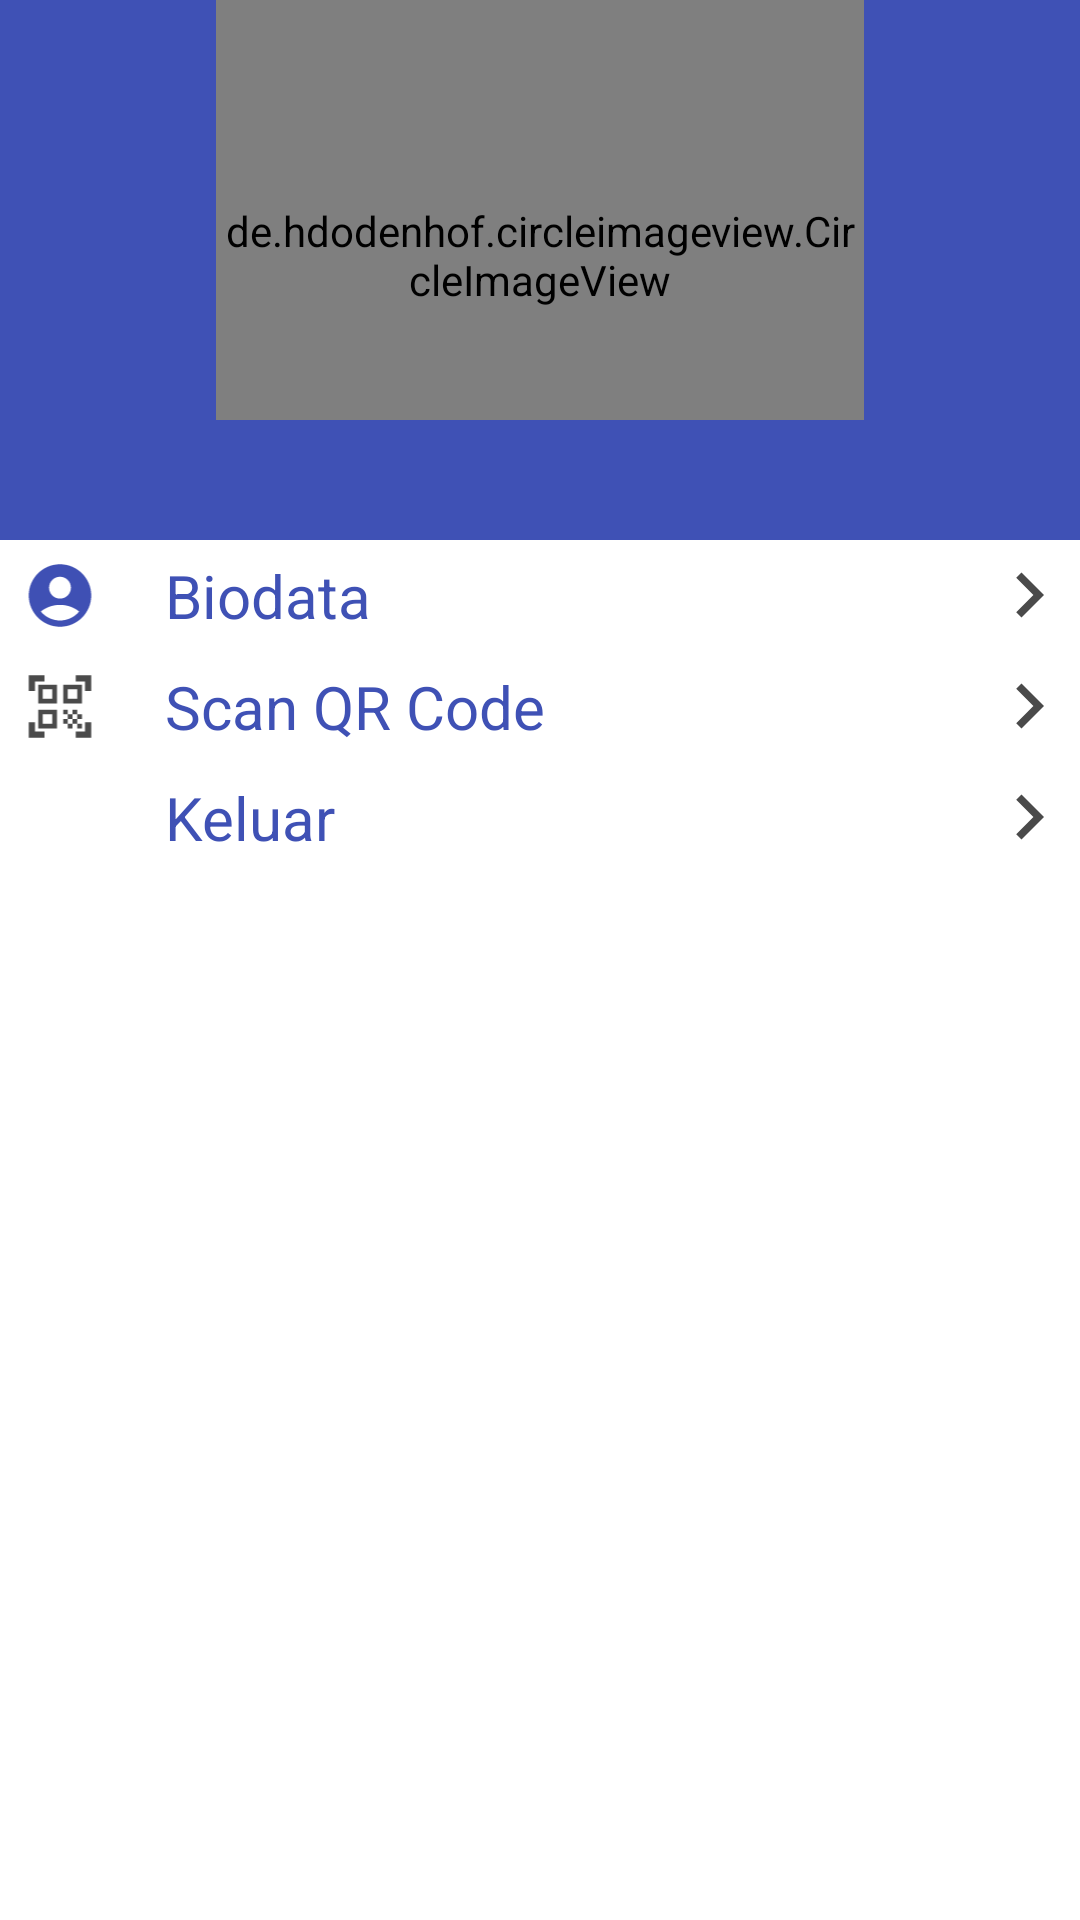

Locate icon controls on the screen. Image size 1080w x 1920h, boxes as box(x1, y1, x2, y2).
account circle: box(28, 564, 92, 627)
keyboard arrow right: box(1016, 572, 1044, 618), box(1016, 683, 1044, 729), box(1016, 794, 1044, 840)
qr code scanner: box(28, 675, 92, 738)
